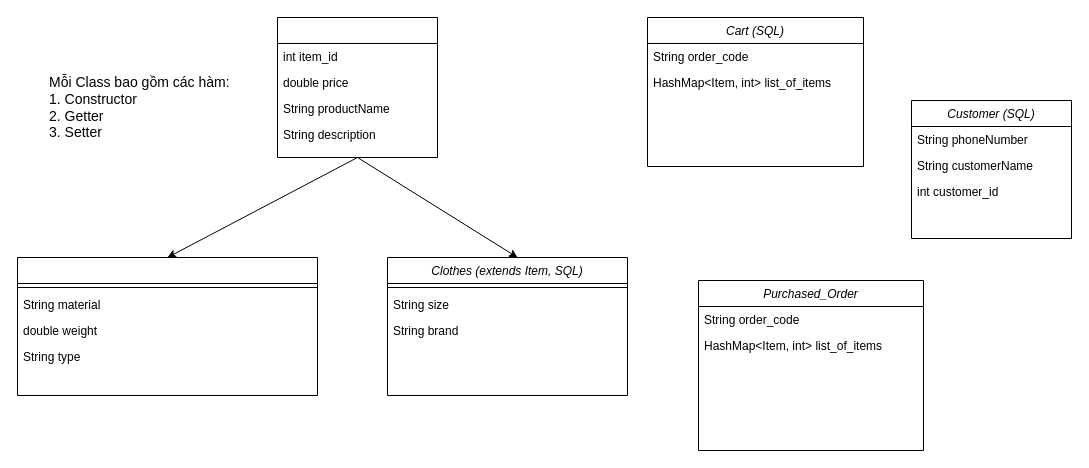
The diagram is 1089 pixels wide and 468 high, and some of its shapes have lost their labels. The shapes that lost their labels are listed below. From the top down, each one's box as (x1, y1, x2, y2) in pixels, then its label:
(276, 16, 438, 158): Item (ABSTRACT)
(16, 256, 318, 396): Accesories (extends Item, SQL)
